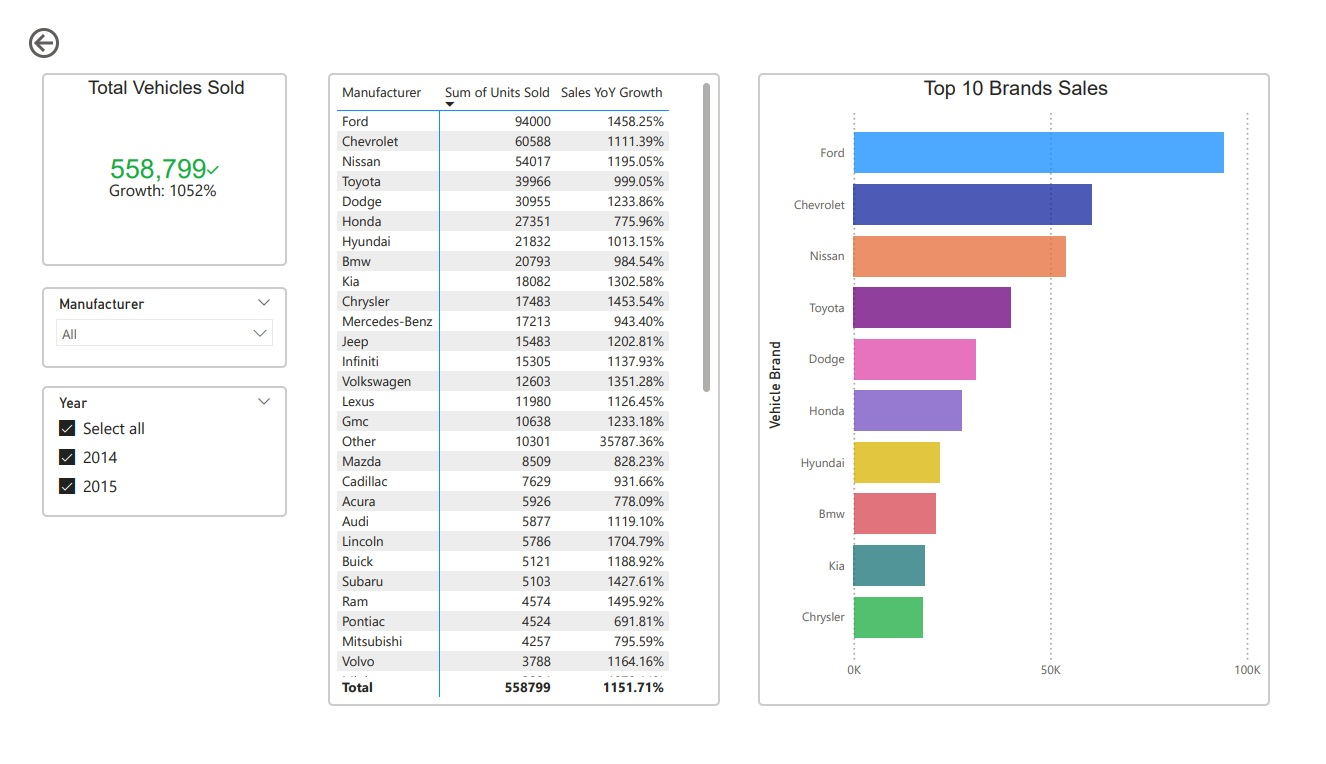

Layout of this report page (visuals, bound fields, positions):
{"tool":"powerbi","page":{"name":"Total Sold by Brand","canvas":[1280,720],"ordinal":1},"visuals":[{"type":"pivotTable","fields":{"Rows":["Car Sales.Manufacturer","Car Sales.Date Year"],"Values":["Sum(Car Sales.Units Sold)","Car Sales.Sales YoY Growth"]},"box":[328.9,0,391.3,688.5],"z":0},{"type":"barChart","title":"Top 10 Brands Sold","fields":{"Category":["Car Sales.Manufacturer"],"Y":["Sum(Car Sales.Units Sold)"],"Series":["Car Sales.Manufacturer"]},"box":[734.9,37.9,511.1,644.4],"z":1000},{"type":"kpi","title":"Total Vehicles Sold","fields":{"Indicator":["CountNonNull(Car Sales.Sale Price)","select"],"TrendLine":["Date Table.Year"],"Goal":["Car Sales.Sales YoY Growth"]},"box":[0,50.1,245.8,193.2],"z":2000},{"type":"actionButton","box":[0,0,100,40],"z":3000},{"type":"slicer","fields":{"Values":["Car Sales.Manufacturer"]},"box":[0,264.1,245.8,80.7],"z":3001}]}

Visuals, with their boxes in screenshot pixels (x1, y1, x2, y2), scaled from the page's 1280x720 canvas onto the 1326x764 screenshot:
pivotTable - Car Sales.Manufacturer x Car Sales.Date Year: box(341, 0, 746, 731)
"Top 10 Brands Sold" barChart: box(761, 40, 1291, 724)
"Total Vehicles Sold" kpi: box(0, 53, 255, 258)
actionButton: box(0, 0, 104, 42)
slicer - Car Sales.Manufacturer: box(0, 280, 255, 366)
